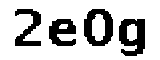0: (79, 4, 115, 48)
2: (10, 7, 43, 49)
e: (49, 18, 79, 51)
g: (119, 14, 151, 60)
